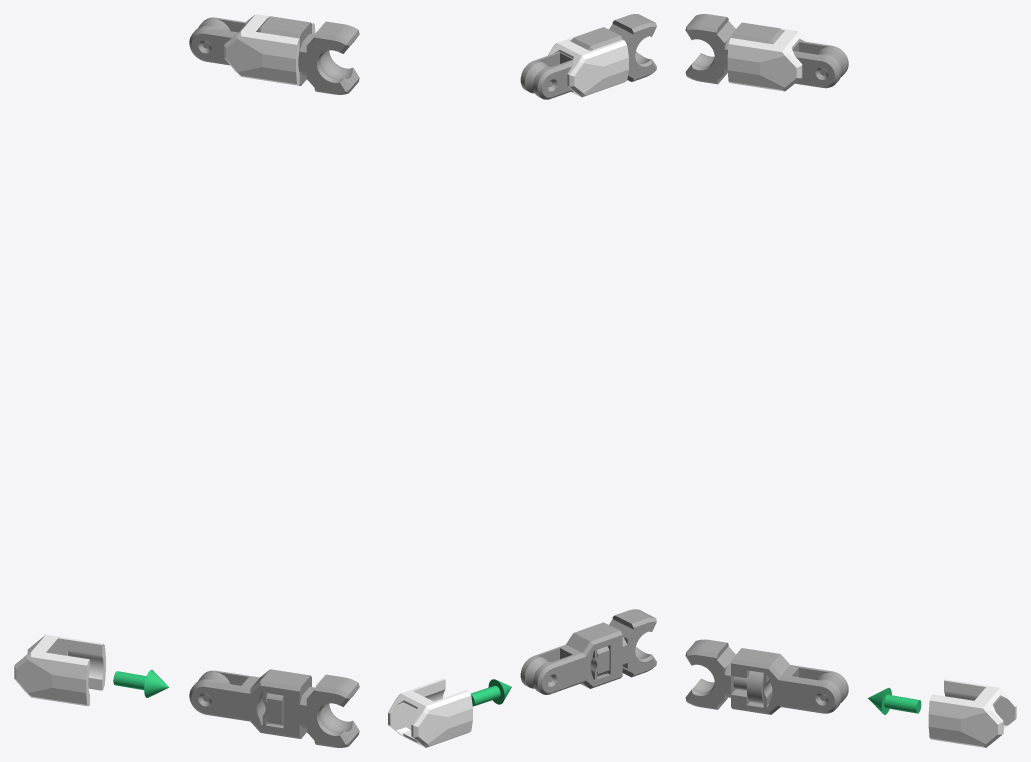
Rendered from upper_arm_b.glb.
The picture shows the model from 3 angles, left to right: view 1: azimuth 90°, elevation 25°; view 2: azimuth 150°, elevation 25°; view 3: azimuth 270°, elevation 25°; orthographic projection. The views are drawn at different scales.
Parts seen in each view (by area): view 1: Body1.008, Body1.009, Body1.007, Body1.006, Body1.004, Body1.005, Arrow.001; view 2: Body1.008, Body1.009, Body1.006, Body1.005, Body1.007, Body1.004, Arrow.001; view 3: Body1.008, Body1.009, Body1.006, Body1.007, Body1.005, Body1.004, Arrow.001.
Boxes of the visible parts, x1,y1,x2,y2 form: Body1.008: (189, 669, 311, 738); Body1.009: (14, 635, 105, 706); Body1.007: (266, 674, 359, 747); Body1.006: (224, 14, 315, 85); Body1.004: (299, 21, 359, 94); Body1.005: (189, 16, 311, 85); Arrow.001: (113, 669, 169, 697); Body1.008: (520, 622, 622, 694); Body1.009: (388, 678, 472, 747); Body1.006: (548, 28, 628, 97); Body1.005: (520, 27, 622, 99); Body1.007: (597, 609, 656, 677); Body1.004: (609, 14, 656, 81); Arrow.001: (470, 679, 511, 706); Body1.008: (731, 648, 848, 714); Body1.009: (928, 679, 1016, 747); Body1.006: (727, 28, 808, 91); Body1.007: (685, 639, 763, 709); Body1.005: (731, 22, 848, 88); Body1.004: (685, 14, 735, 84); Arrow.001: (868, 688, 921, 714).
Size of the model in its own units: 22.19 by 109 by 47.96.
